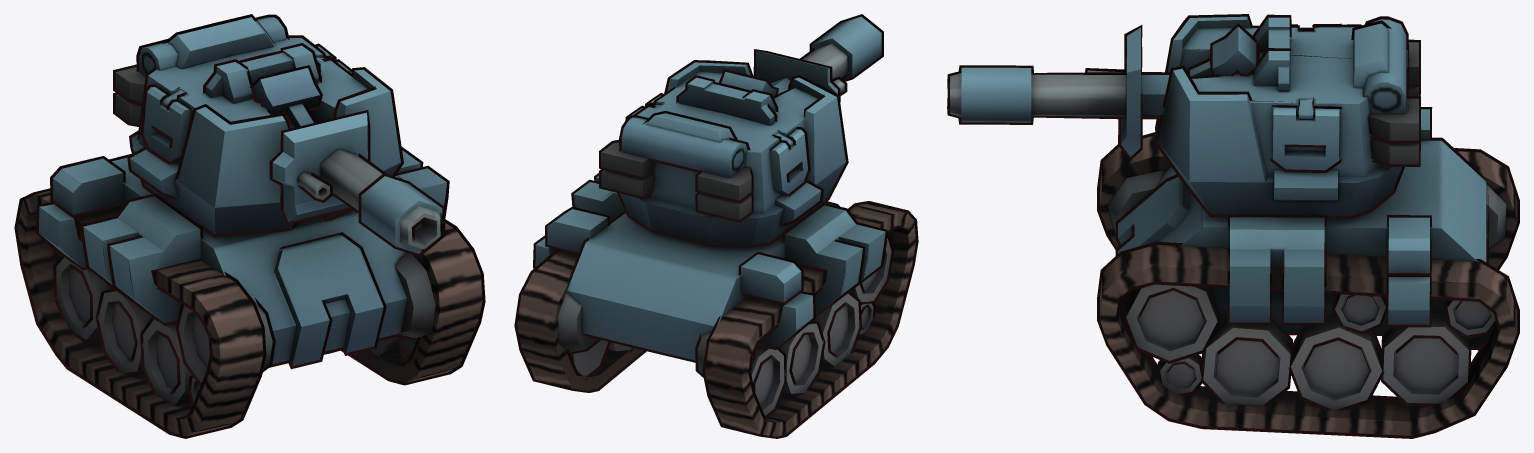
Rendered from tank.glb.
3 views of the same model, side by side, from view 1: azimuth 30°, elevation 25°; view 2: azimuth 150°, elevation 25°; view 3: azimuth 270°, elevation 25° (orthographic). The views are drawn at different scales.
Size of the model in its own units: 3.24 by 3.16 by 4.87.
Materials: 2 (1 with a texture image).
